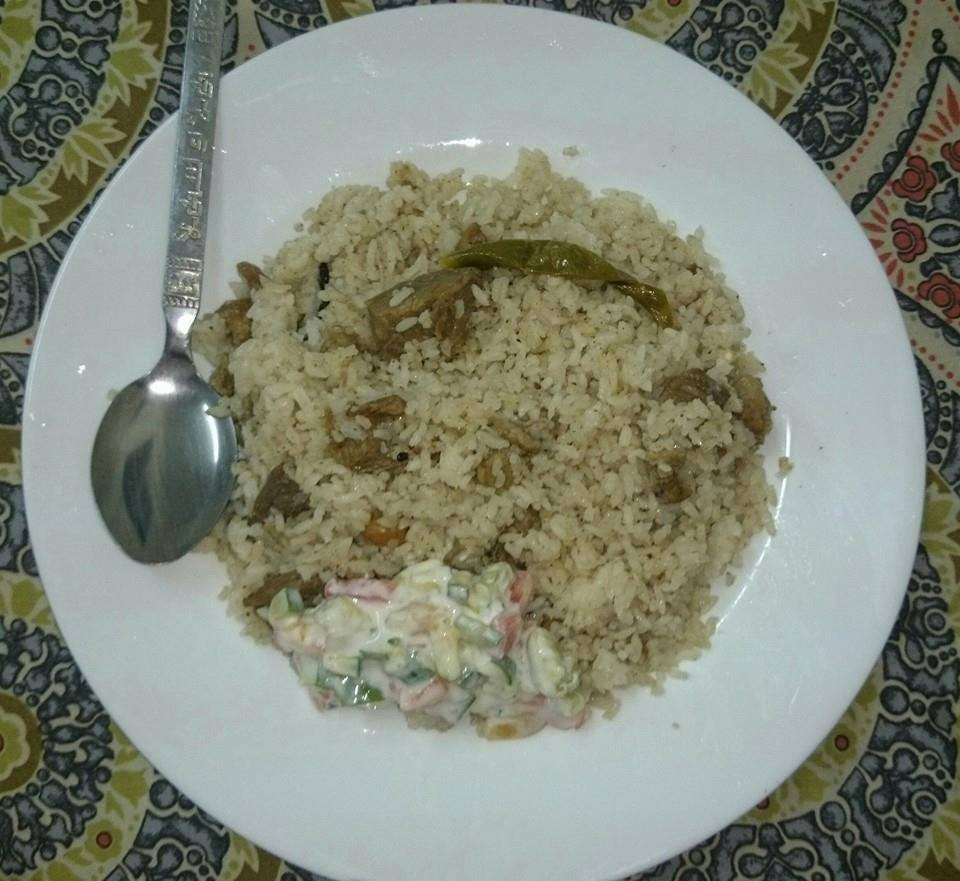tehari: (186, 150, 794, 740)
